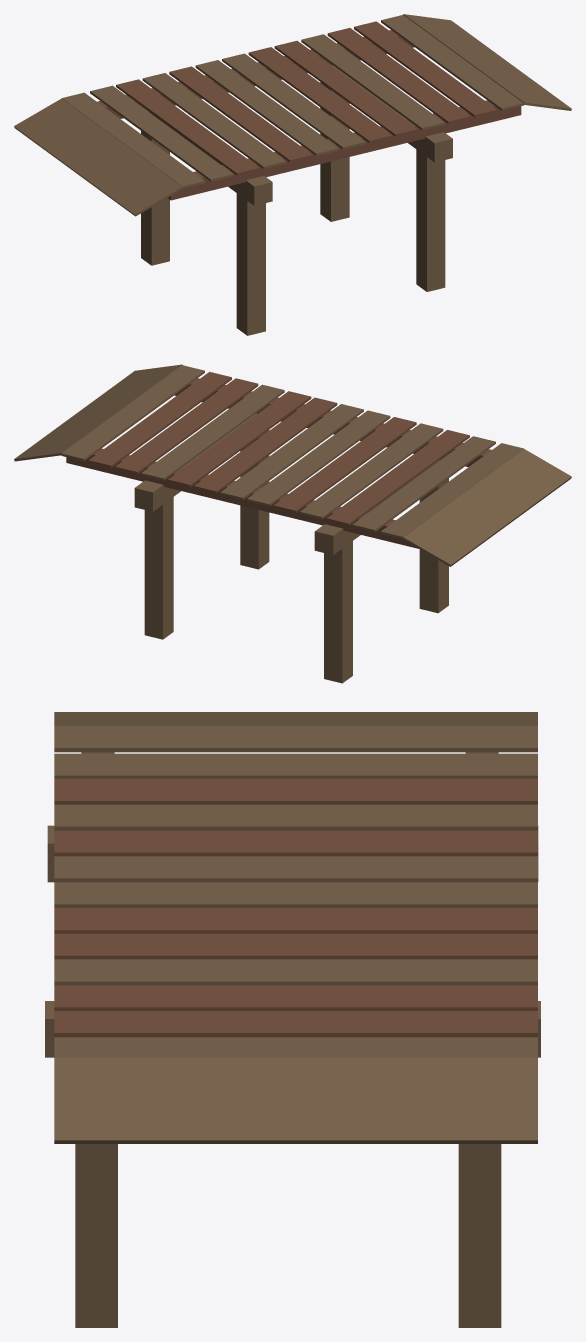
File: Brug.fbx
3 views of the same model, one above another, from view 1: azimuth 30°, elevation 25°; view 2: azimuth 150°, elevation 25°; view 3: azimuth 270°, elevation 25° (orthographic). The views are drawn at different scales.
Visible parts, largest first — view 1: Plane.014, Cube.006, Cube.007, Plane.013, Cube, Plane.009, Plane.006, Plane.003, Plane.008, Plane.005, Plane.004, Plane.001 (+11 smaller); view 2: Plane.014, Cube.004, Plane.013, Cube.005, Plane, Plane.002, Plane.009, Plane.007, Plane.005, Plane.010, Plane.004, Plane.008 (+11 smaller); view 3: Plane.013, Plane.012, Plane.009, Plane.008, Plane.007, Plane.006, Plane.004, Plane.003, Plane, Plane.010, Plane.005, Plane.002 (+5 smaller).
Boxes of the visible parts, <box> form: Plane.014: <box>14,98,183,216</box>; Cube.006: <box>236,193,265,335</box>; Cube.007: <box>416,149,445,291</box>; Plane.013: <box>403,14,571,110</box>; Cube: <box>168,100,521,200</box>; Plane.009: <box>116,79,259,175</box>; Plane.006: <box>354,21,497,117</box>; Plane.003: <box>274,40,417,136</box>; Plane.008: <box>142,73,285,168</box>; Plane.005: <box>327,28,470,123</box>; Plane.004: <box>301,34,444,130</box>; Plane.001: <box>222,53,365,149</box>; Plane.014: <box>402,449,571,566</box>; Cube.004: <box>144,487,173,639</box>; Plane.013: <box>14,364,182,461</box>; Cube.005: <box>324,541,352,683</box>; Plane: <box>247,410,390,506</box>; Plane.002: <box>194,397,337,493</box>; Plane.009: <box>326,430,469,525</box>; Plane.007: <box>273,417,416,512</box>; Plane.005: <box>115,378,258,474</box>; Plane.010: <box>352,436,495,532</box>; Plane.004: <box>141,384,284,480</box>; Plane.008: <box>300,423,443,519</box>; Plane.013: <box>54,1057,537,1143</box>; Plane.012: <box>54,726,537,752</box>; Plane.009: <box>54,778,537,804</box>; Plane.008: <box>54,804,537,830</box>; Plane.007: <box>54,830,537,856</box>; Plane.006: <box>54,1011,537,1037</box>; Plane.004: <box>54,959,537,985</box>; Plane.003: <box>54,933,537,959</box>; Plane: <box>54,856,537,882</box>; Plane.010: <box>54,753,537,778</box>; Plane.005: <box>54,985,537,1010</box>; Plane.002: <box>54,908,537,933</box>.
Bounding box in the file's own units: 3163 × 1183 × 1554.
